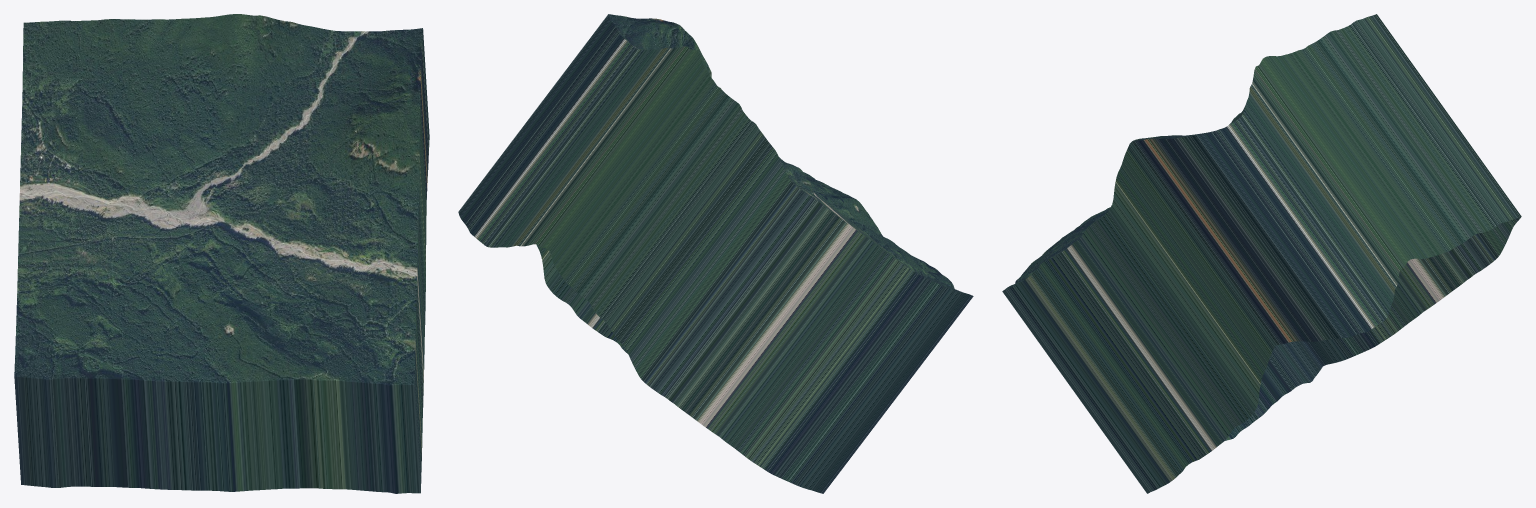
3 renders of one model, left to right at view 1: azimuth 30°, elevation 25°; view 2: azimuth 150°, elevation 25°; view 3: azimuth 270°, elevation 25°, orthographic. The views are drawn at different scales.
Size of the model in its own units: 6049 by 5188 by 6255.
1 material, 1 textured.
